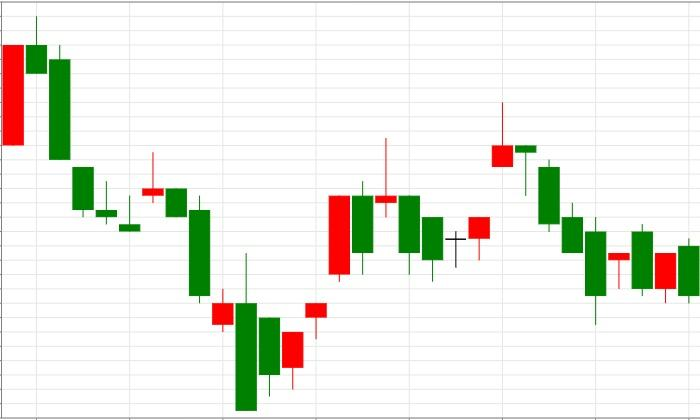bullish_engulfing_rise: (491, 101, 700, 325), (491, 102, 654, 326), (141, 152, 257, 412)
shooting_star_fall: (421, 102, 514, 281)
three_white_soldiers_rise: (142, 151, 351, 411)
